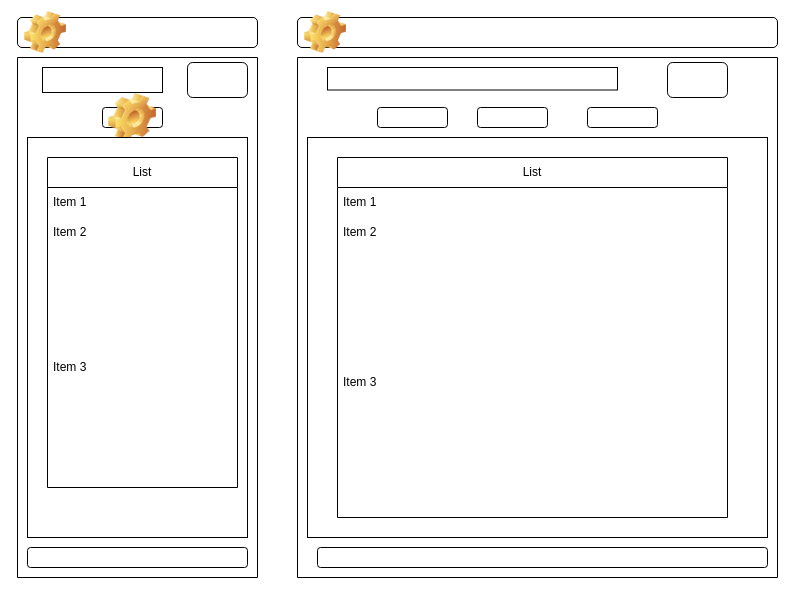
This 795x595 diagram has some shape labels left out. The centre of each missing label's shape, as x and y in pixels:
"Desktop view wireframe" goes at pixel 537 32.
"Mobile view wireframe" goes at pixel 137 32.
